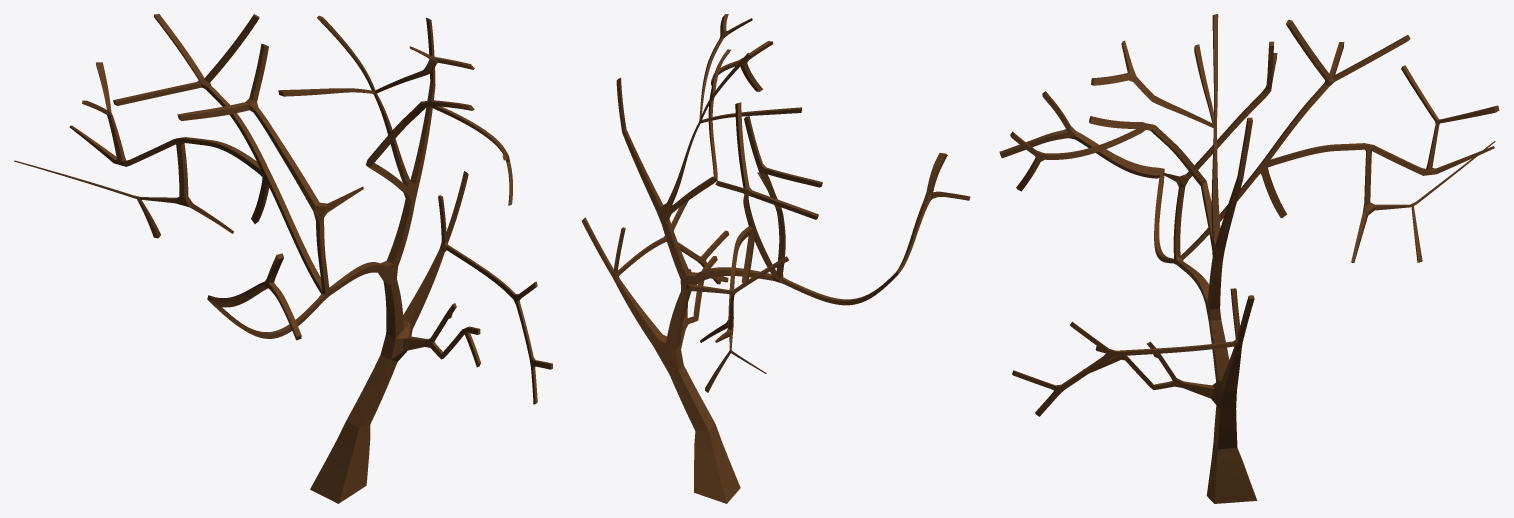
The model's file is tree03.fbx.
3 renders of one model, left to right at view 1: azimuth 30°, elevation 25°; view 2: azimuth 150°, elevation 25°; view 3: azimuth 270°, elevation 25°, orthographic. The views are drawn at different scales.
Parts seen in each view (by area): view 1: dalsizagac; view 2: dalsizagac; view 3: dalsizagac.
Boxes of the visible parts, x1,y1,x2,y2 form: dalsizagac: (14,14,552,503); dalsizagac: (581,14,970,503); dalsizagac: (999,14,1499,503).
Bounding box in the file's own units: 0.6865 × 0.9722 × 0.927.
